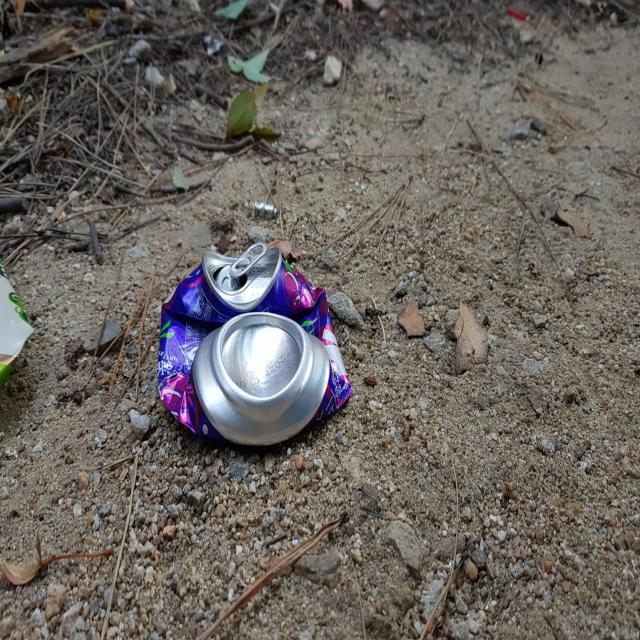can: (157, 241, 351, 444)
